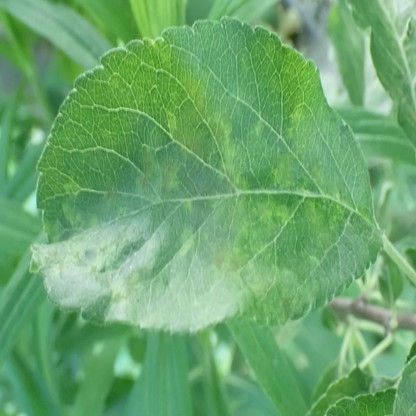scab: (34, 104, 334, 313)
